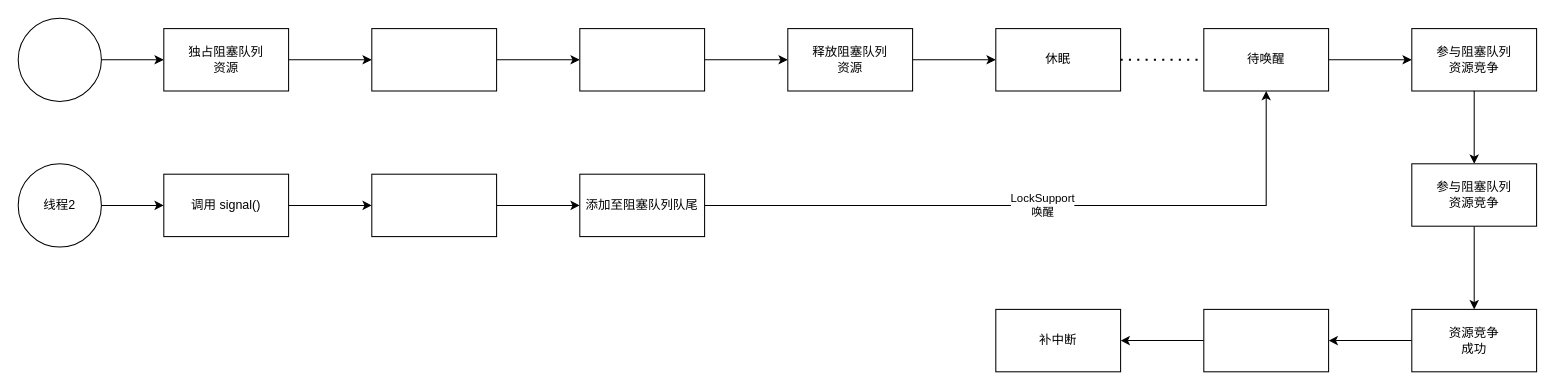
Some shapes in this 1555 by 390 pixel diagram are drawn without their labels. Here are the shapes that lost their labels. From the top down, the centre of each, then its label:
At point (59, 59): "线程1".
At point (434, 59): "调用await".
At point (642, 59): "等待队列入队".
At point (434, 205): "等待队列出队".
At point (1266, 340): "清除等待队列中 所有CANCELLED 节点".
